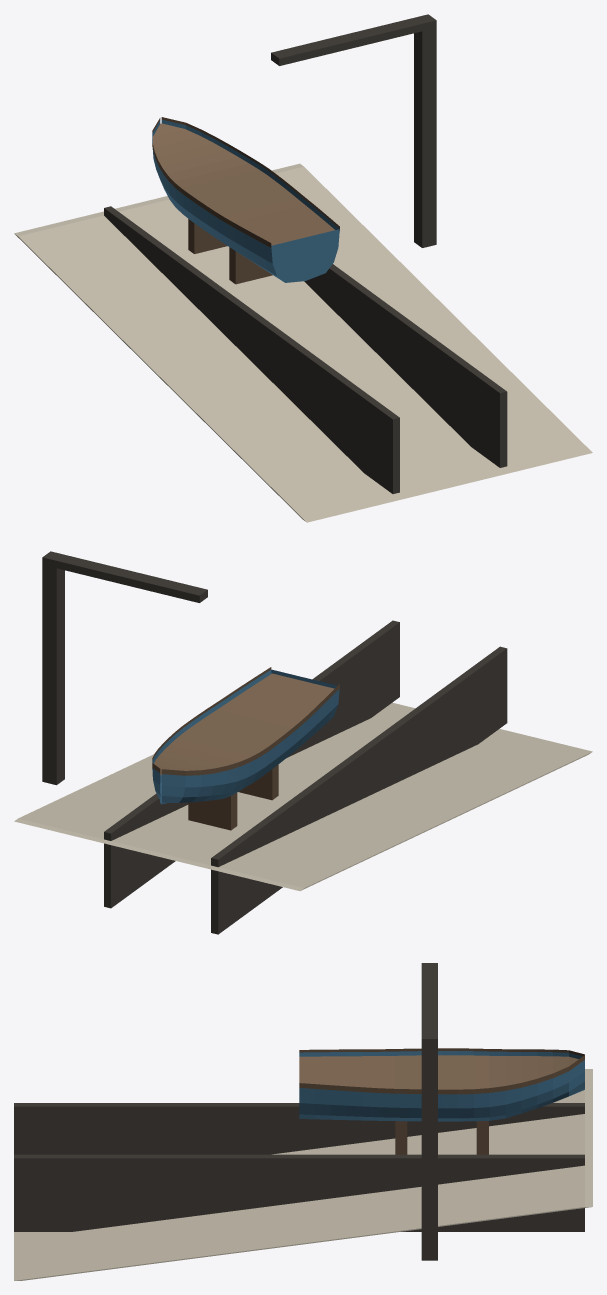
File: cekek-yeri.glb
3 renders of one model, top to bottom at view 1: azimuth 30°, elevation 25°; view 2: azimuth 150°, elevation 25°; view 3: azimuth 270°, elevation 25°, orthographic.
Parts seen in each view (by area): view 1: beton, demir, ahsap, tekne_mavi, ahsap_koyu; view 2: demir, beton, ahsap, tekne_mavi, ahsap_koyu; view 3: demir, beton, tekne_mavi, ahsap, ahsap_koyu.
Boxes of the visible parts, left/top/right/bottom form: beton: left=14, top=163, right=592, bottom=522; demir: left=104, top=14, right=507, bottom=493; ahsap: left=152, top=123, right=334, bottom=245; tekne_mavi: left=152, top=119, right=339, bottom=282; ahsap_koyu: left=152, top=117, right=339, bottom=284; demir: left=42, top=551, right=507, bottom=934; beton: left=14, top=702, right=592, bottom=890; ahsap: left=153, top=673, right=334, bottom=775; tekne_mavi: left=152, top=669, right=339, bottom=804; ahsap_koyu: left=152, top=667, right=339, bottom=830; demir: left=14, top=963, right=584, bottom=1260; beton: left=14, top=1069, right=592, bottom=1280; tekne_mavi: left=299, top=1051, right=584, bottom=1121; ahsap: left=299, top=1055, right=578, bottom=1089; ahsap_koyu: left=299, top=1048, right=584, bottom=1154.
Size of the model in its own units: 9.4 by 7.2 by 14.2.
